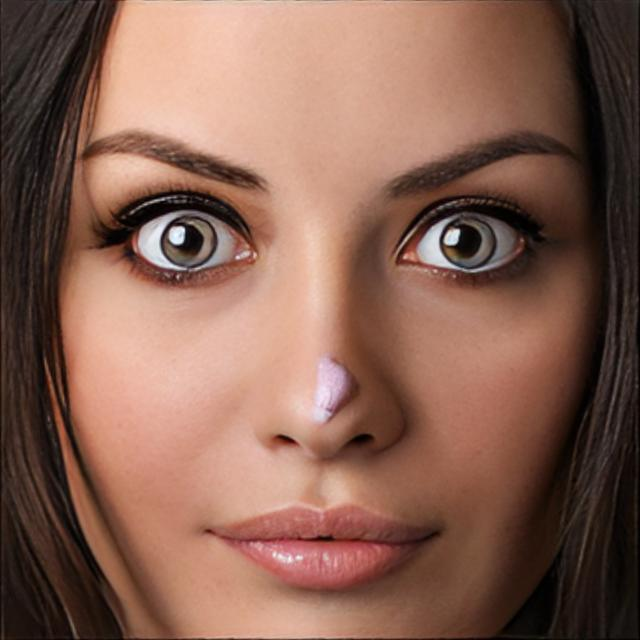surprise: (56, 0, 604, 640)
